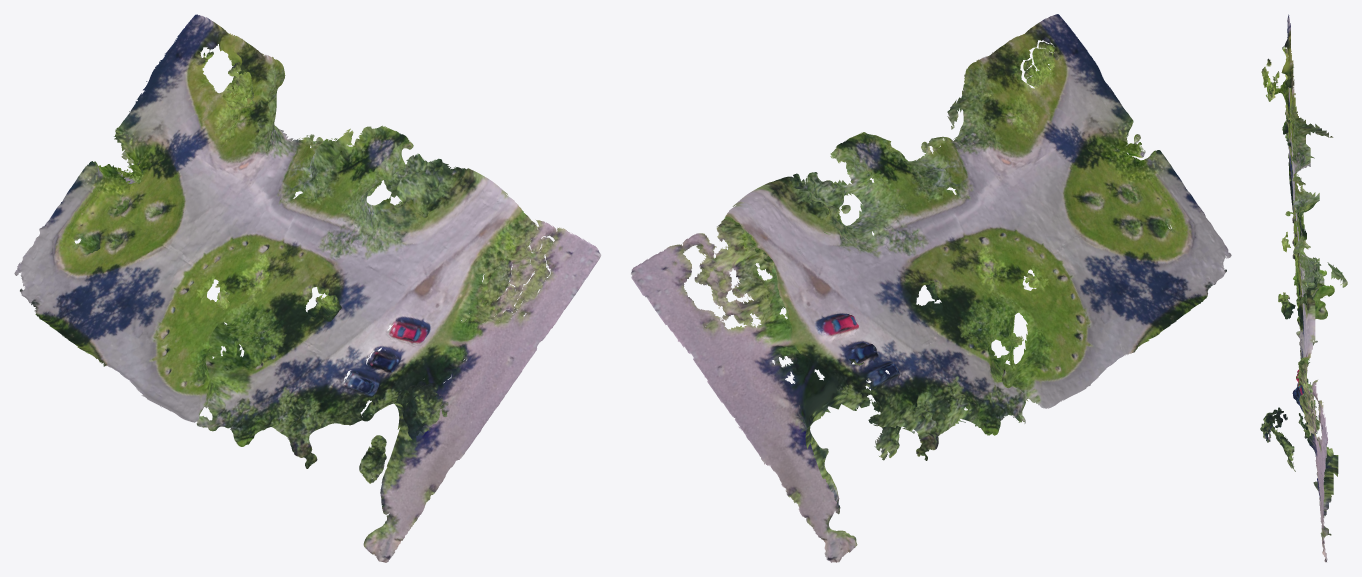
File: odm_textured_model_geo.glb
The picture shows the model from 3 angles, left to right: view 1: azimuth 30°, elevation 25°; view 2: azimuth 150°, elevation 25°; view 3: azimuth 270°, elevation 25°; orthographic projection. The views are drawn at different scales.
Size of the model in its own units: 73.97 by 71.3 by 12.08.
Materials: 1 (1 with a texture image).
